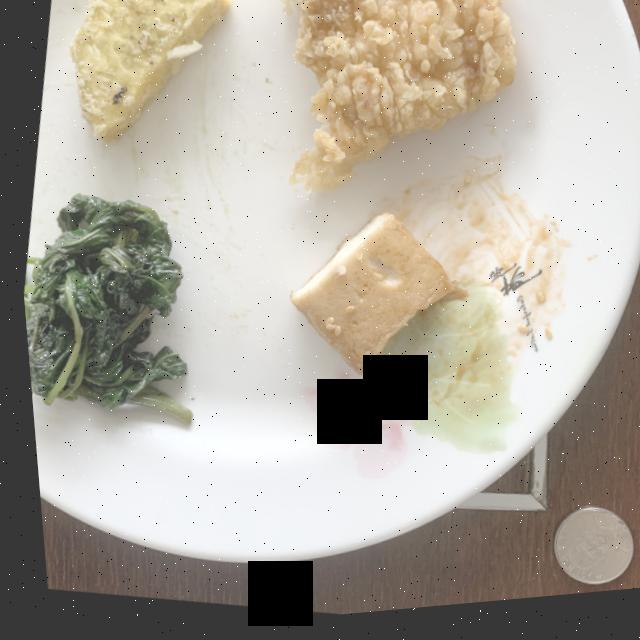coin: (543, 516, 623, 595)
creamy tofu: (284, 220, 450, 380)
fried chicken cutlet: (282, 0, 514, 197)
sweet potato leaves: (19, 195, 185, 426)
